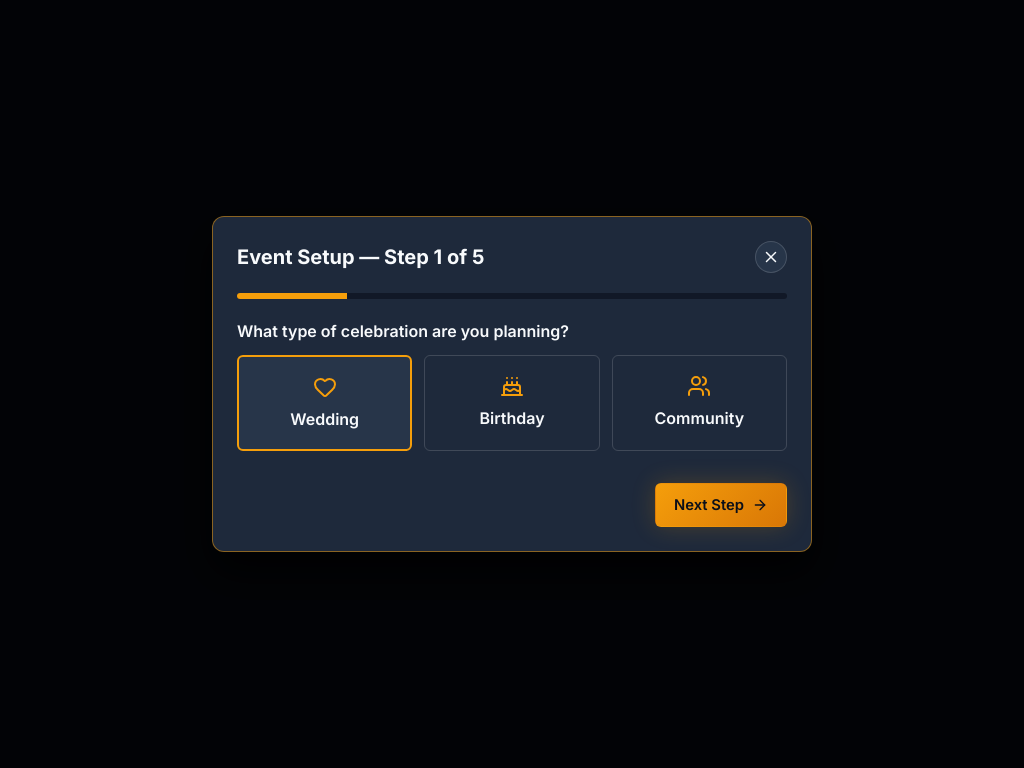
Scenario: OnboardingWizard Component Tests › validates required fields on Step 2 and displays accessible alert
Advance to Step 2
Click the button "Next Step": {"x": 721, "y": 505} [655,483,787,527]
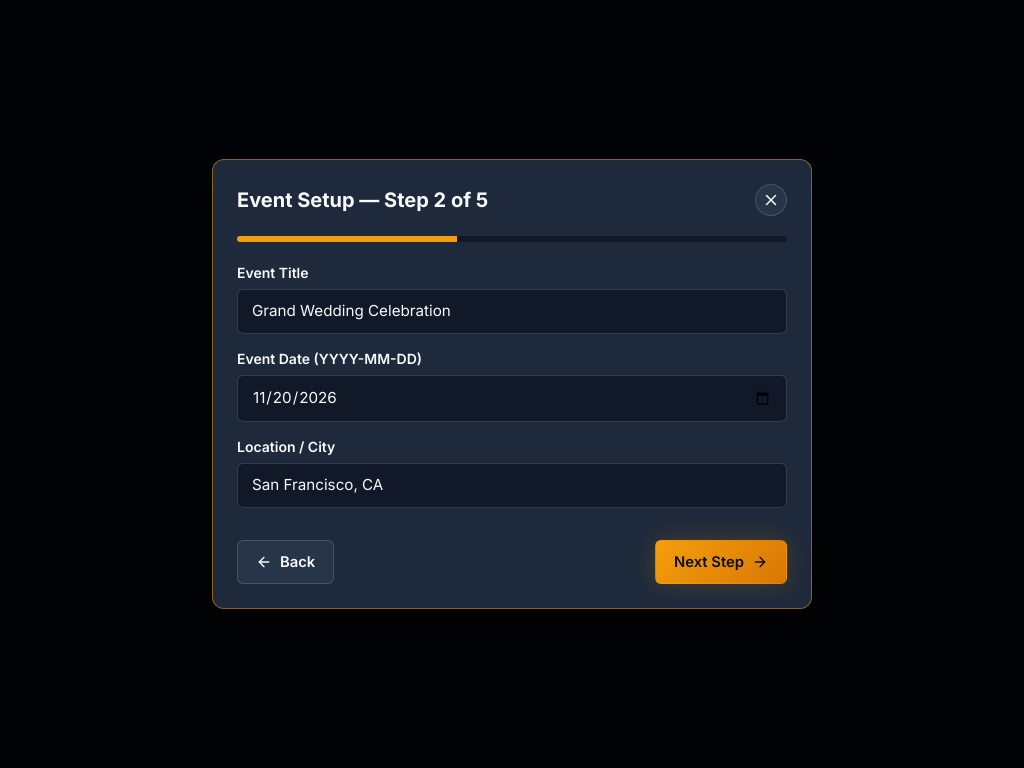
Clear Title and Date
Clear the field labelled "Event Title": {"x": 512, "y": 312} [237,289,787,334]
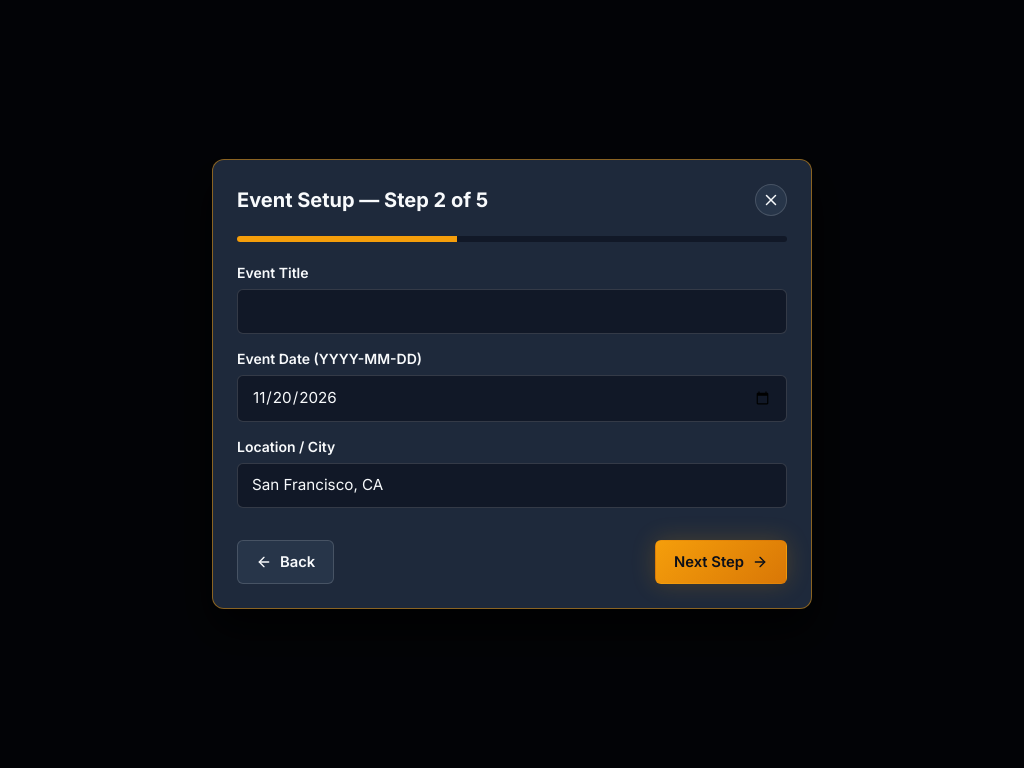
Clear the date field labelled "Event Date (YYYY-MM-DD)": {"x": 512, "y": 398} [237,375,787,422]
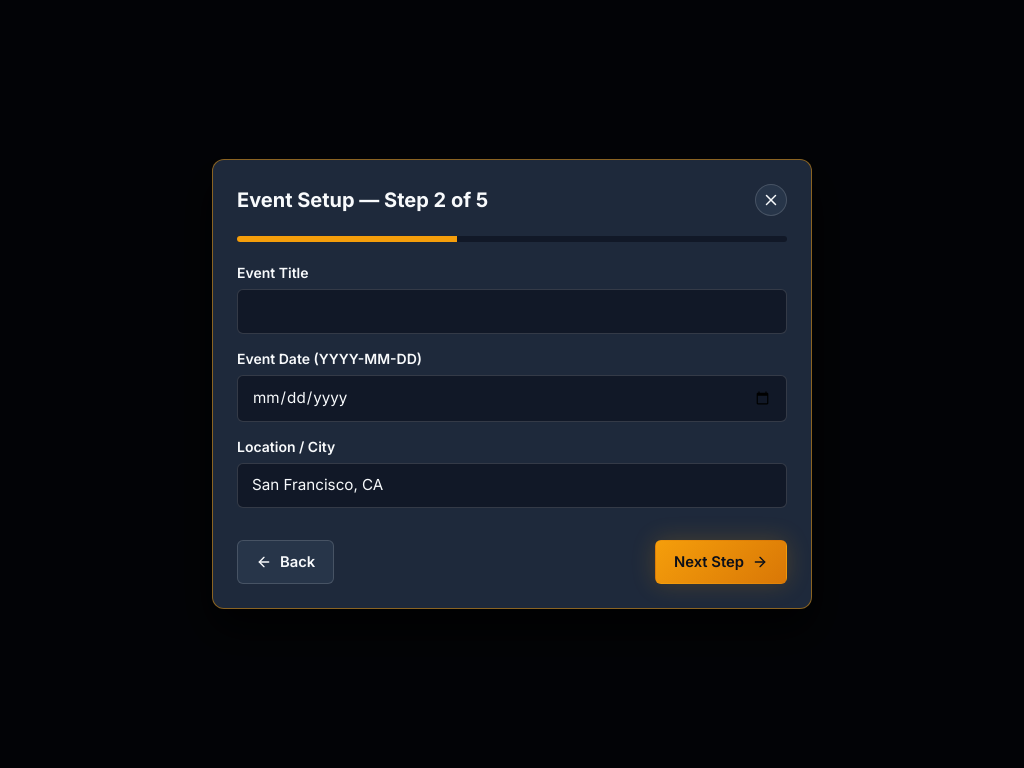
Click the button "Next Step": {"x": 721, "y": 562} [655,540,787,584]
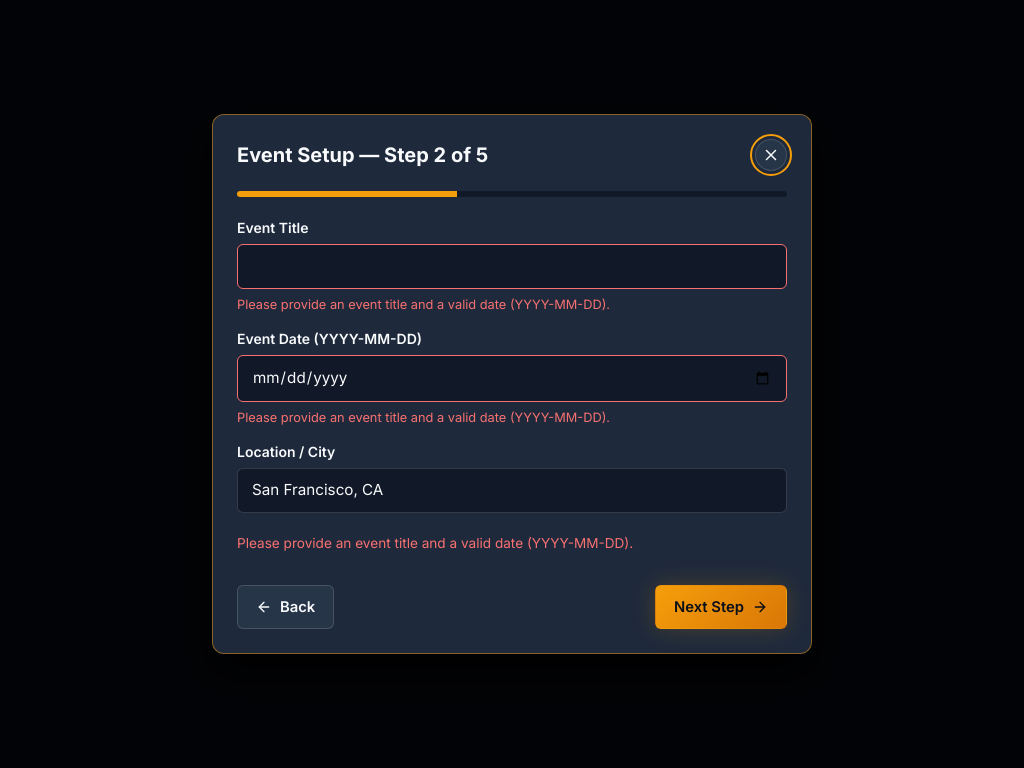
Expected: the message shows "Please provide an event title and a valid date", [237,535,633,551]
